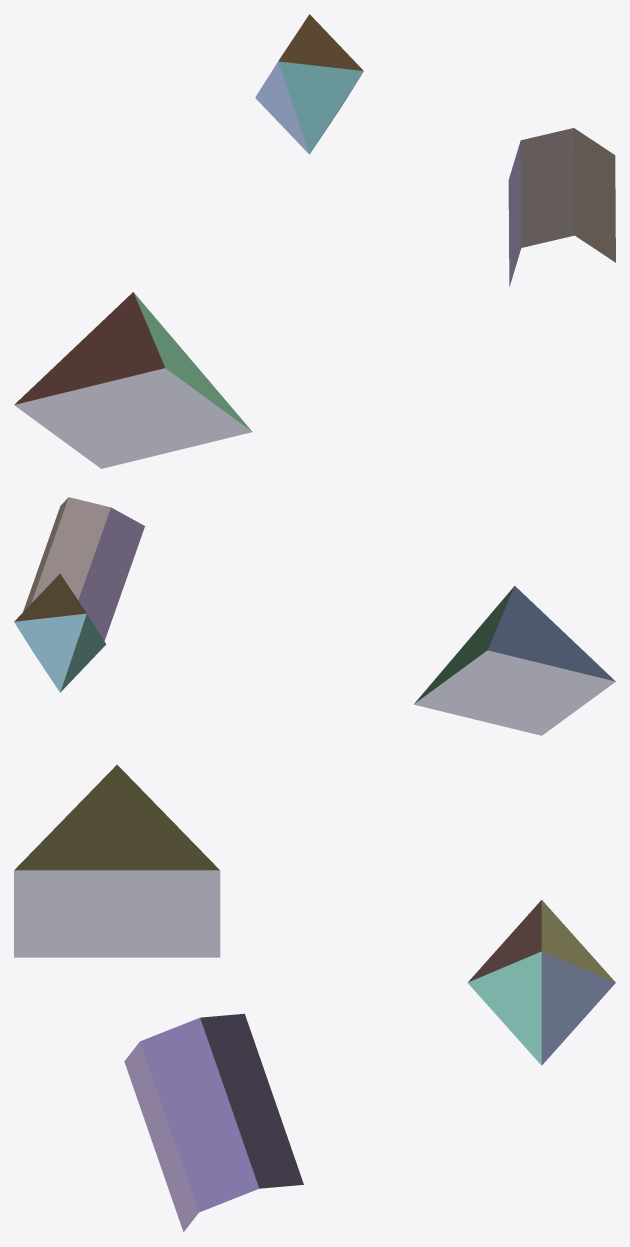
File: shapes.gltf
3 renders of one model, top to bottom at view 1: azimuth 30°, elevation 25°; view 2: azimuth 150°, elevation 25°; view 3: azimuth 270°, elevation 25°, orthographic. The views are drawn at different scales.
Visible parts, largest first — view 1: PyramidNode, PrismNode, OctahedronNode; view 2: PyramidNode, PrismNode, OctahedronNode; view 3: PyramidNode, PrismNode, OctahedronNode.
Part boxes in pixels (x1,y1,x2,y2): PyramidNode: (14, 292, 252, 468); PrismNode: (508, 128, 615, 286); OctahedronNode: (255, 14, 363, 154); PyramidNode: (414, 586, 615, 735); PrismNode: (23, 497, 144, 640); OctahedronNode: (14, 573, 106, 692); PyramidNode: (14, 764, 220, 957); PrismNode: (124, 1013, 303, 1232); OctahedronNode: (467, 900, 615, 1065).
Bounding box in the file's own units: 3.4 × 1.17 × 2.48.
